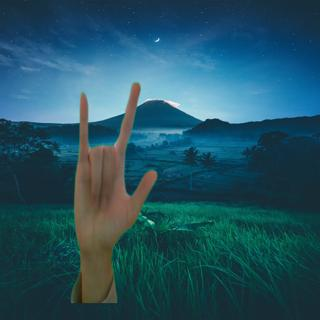ILY: (70, 80, 161, 256)
